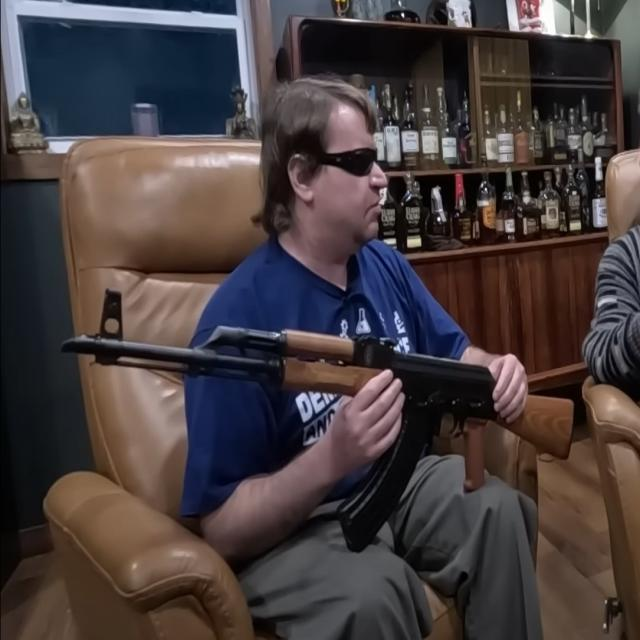ak: (56, 277, 580, 564)
